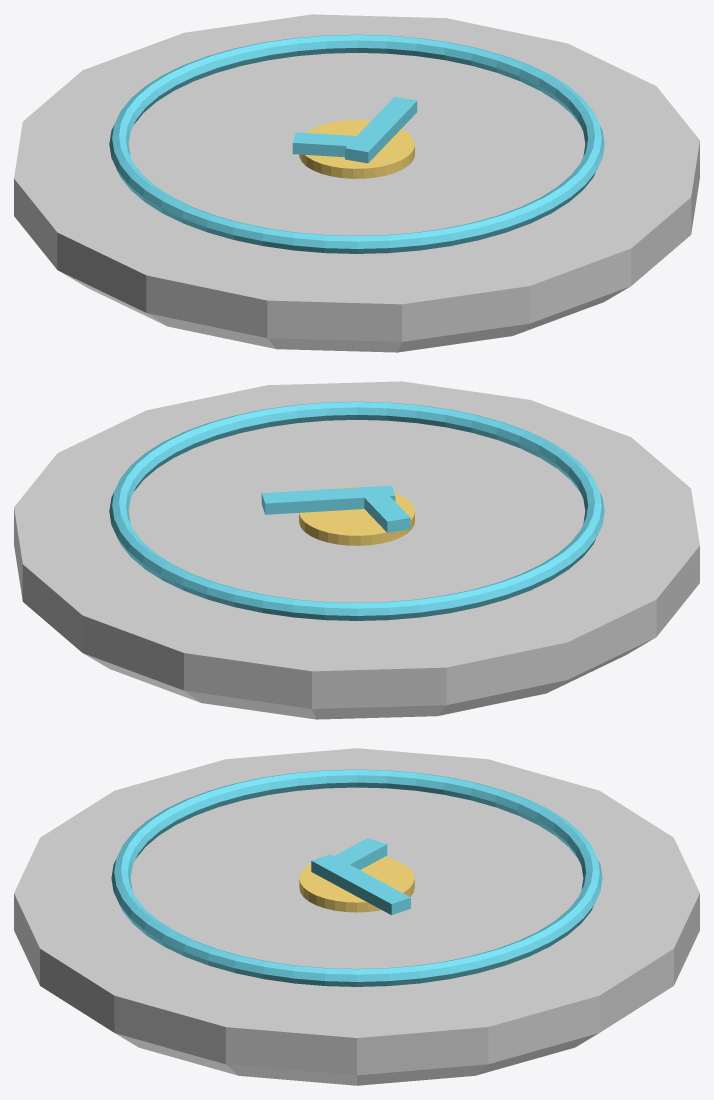
File: checkpoint-platform.glb
3 renders of one model, top to bottom at view 1: azimuth 30°, elevation 25°; view 2: azimuth 150°, elevation 25°; view 3: azimuth 270°, elevation 25°, orthographic.
Parts seen in each view (by area): view 1: platform-grass-large-round, checkpoint-ring, checkpoint-center-disk, checkpoint-check-long, checkpoint-check-short; view 2: platform-grass-large-round, checkpoint-ring, checkpoint-center-disk, checkpoint-check-long, checkpoint-check-short; view 3: platform-grass-large-round, checkpoint-ring, checkpoint-center-disk, checkpoint-check-long, checkpoint-check-short.
Part boxes in pixels (left/top/right/bottom): platform-grass-large-round: left=14, top=14, right=699, bottom=352; checkpoint-ring: left=109, top=34, right=604, bottom=253; checkpoint-center-disk: left=299, top=120, right=414, bottom=178; checkpoint-check-long: left=345, top=96, right=417, bottom=163; checkpoint-check-short: left=292, top=132, right=371, bottom=157; platform-grass-large-round: left=14, top=381, right=699, bottom=719; checkpoint-ring: left=109, top=401, right=604, bottom=620; checkpoint-center-disk: left=299, top=487, right=414, bottom=545; checkpoint-check-long: left=261, top=485, right=395, bottom=514; checkpoint-check-short: left=359, top=488, right=410, bottom=532; platform-grass-large-round: left=14, top=748, right=699, bottom=1085; checkpoint-ring: left=111, top=769, right=602, bottom=986; checkpoint-center-disk: left=299, top=857, right=414, bottom=912; checkpoint-check-long: left=311, top=854, right=410, bottom=915; checkpoint-check-short: left=322, top=838, right=387, bottom=869.
Bounding box in the file's own units: 5 × 0.715 × 5.
